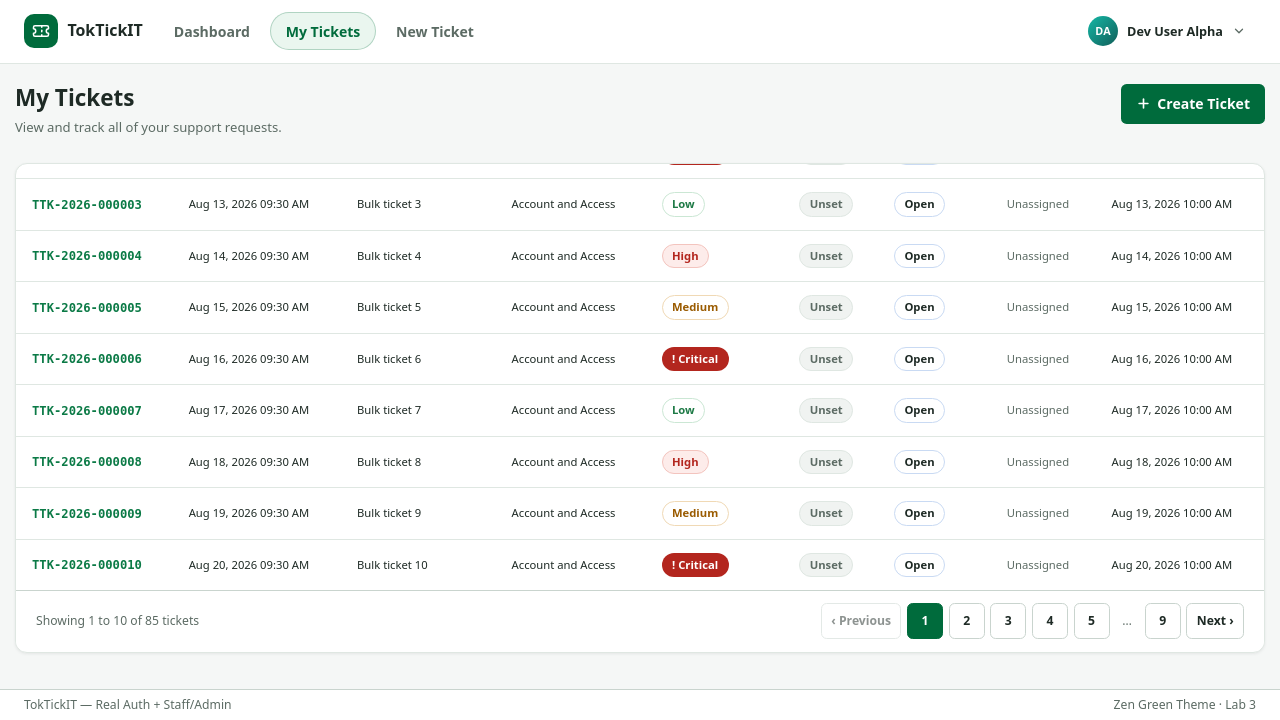
it: UI-14 — pagination window, showing text, bounds, scroll reset › mid/last window of the 9-page set shapes correctly
(page scrolled)
Expected: the heading "My Tickets" is shown, [15, 82, 134, 113]
Expected: the text "Showing 1 to 10 of 85 tickets" is shown, [36, 612, 199, 631]
Step 1. Click the button "Next ›" → (1215, 622), box [1186, 604, 1244, 640]
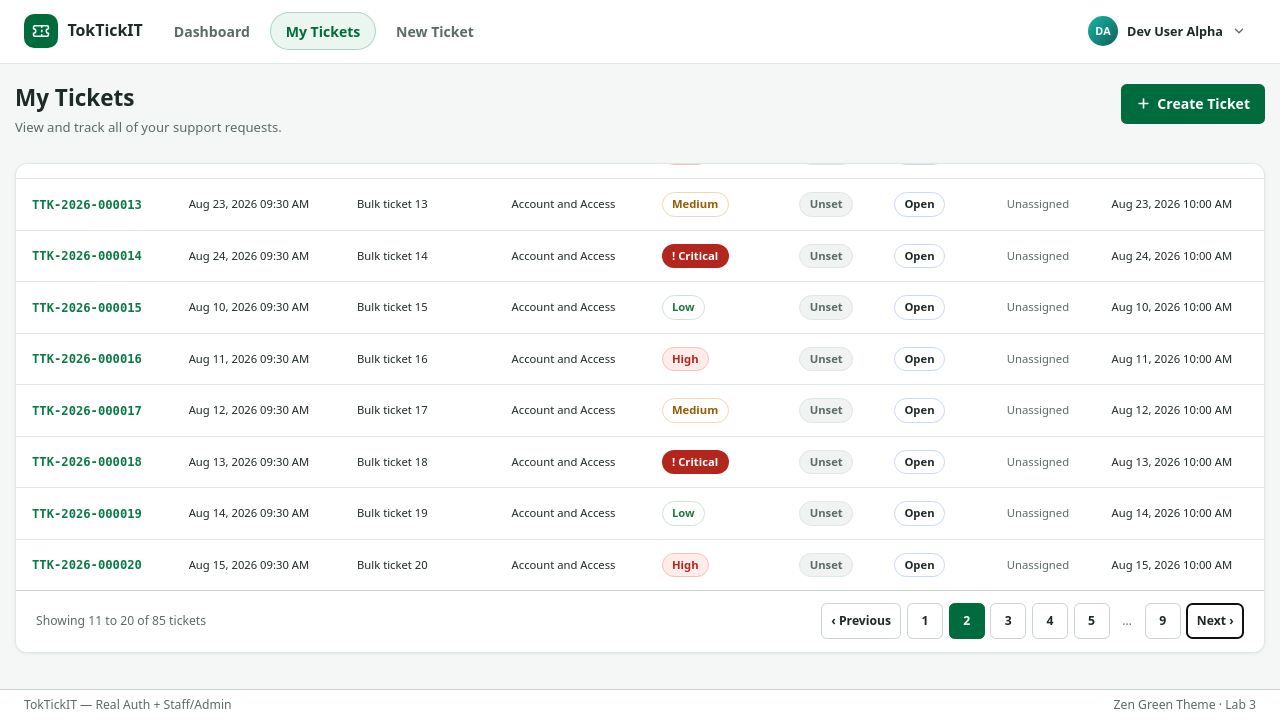
Result: the text "Showing 11 to 20 of 85 tickets" is shown at [36, 612, 206, 631]
Step 2. Click the button "9" → (1163, 622), box [1145, 604, 1181, 640]
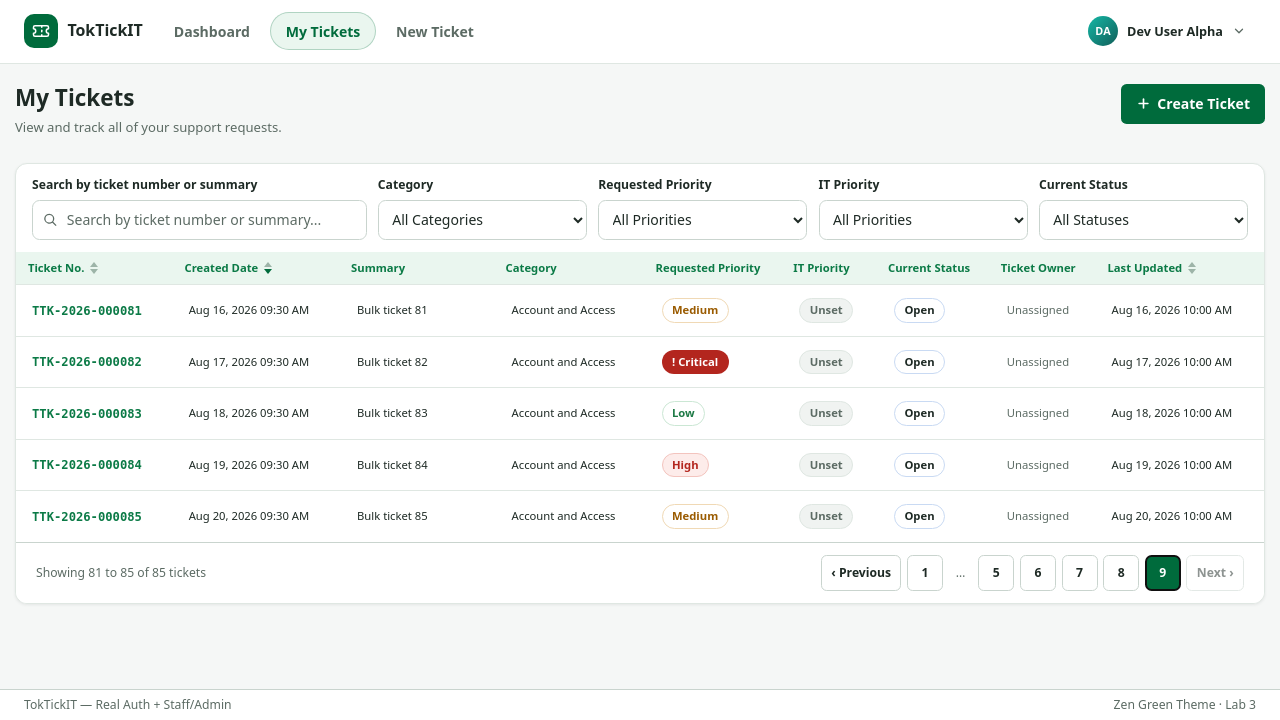
Result: the text "Showing 81 to 85 of 85 tickets" is shown at [36, 564, 206, 582]
Result: the button "Next ›" is disabled at [1186, 555, 1244, 591]
